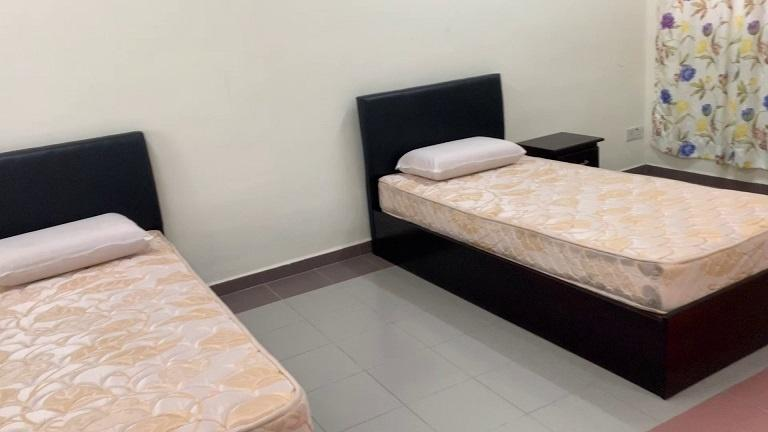bed: (331, 70, 768, 422), (0, 127, 319, 432)
table: (518, 129, 613, 172)
